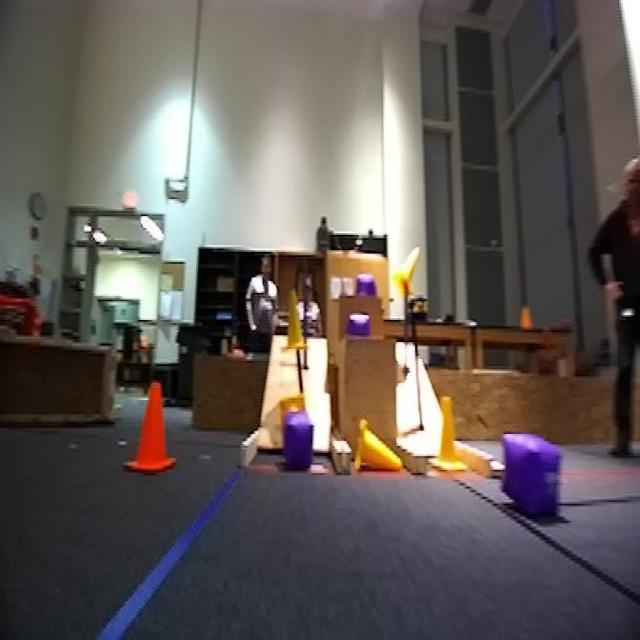frc_cone: (432, 396, 468, 476), (357, 422, 399, 473), (282, 293, 309, 356), (391, 248, 416, 300), (276, 397, 306, 417)
frc_cube: (505, 436, 559, 519), (283, 418, 315, 472), (346, 315, 368, 339), (359, 272, 375, 293)
